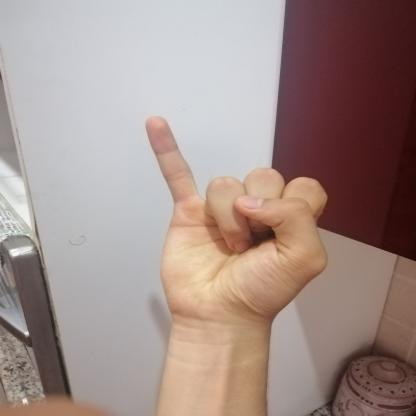MEEM: (126, 107, 348, 342)
